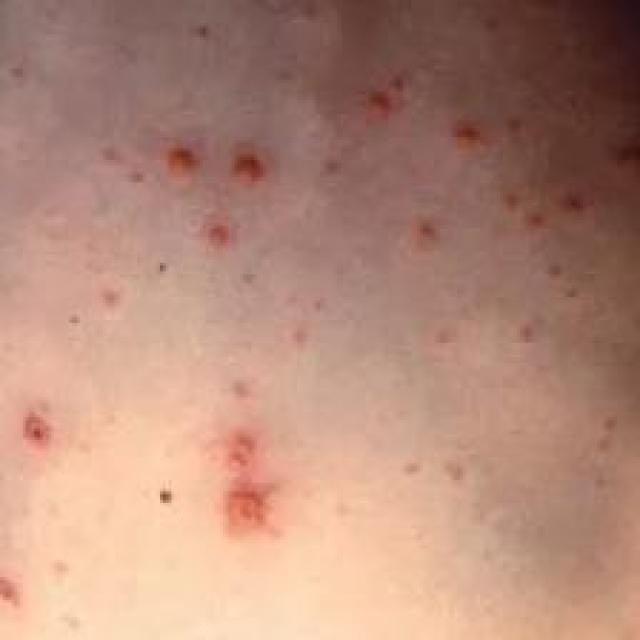others: (0, 32, 623, 627)
